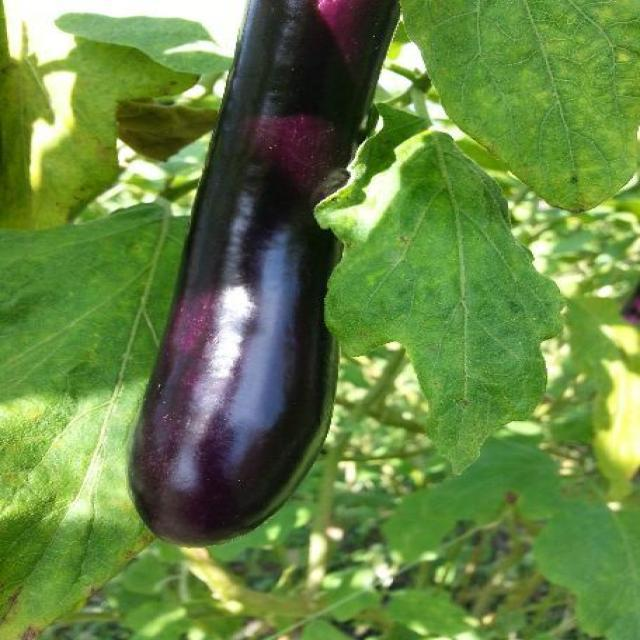Eggplant: (131, 0, 377, 549)
